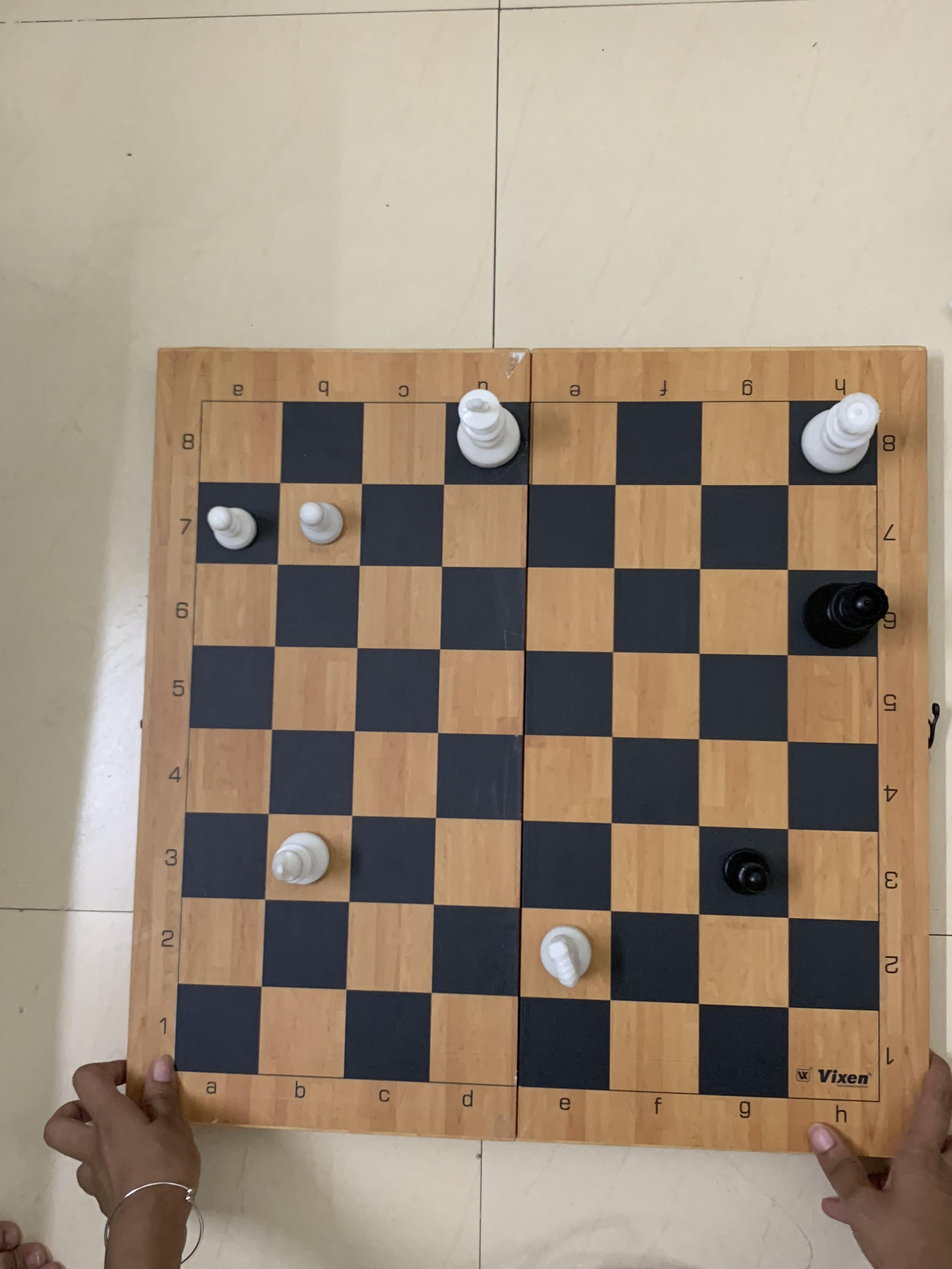black_pawn: (704, 833, 783, 915)
black_queen: (784, 568, 898, 649)
white_bishop: (268, 812, 348, 897)
white_king: (456, 386, 531, 475)
white_knight: (521, 908, 611, 1000)
white_pawn: (192, 479, 275, 558), (282, 488, 353, 566)
white_queen: (792, 392, 887, 475)
